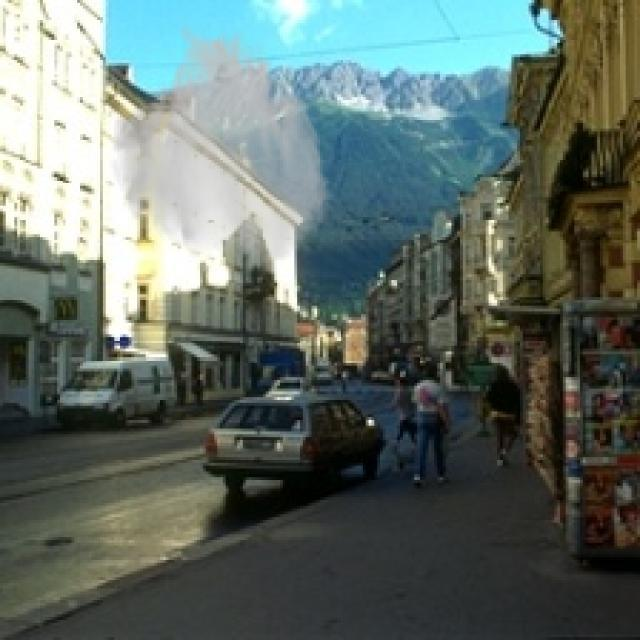Smoke: (108, 20, 332, 269)
